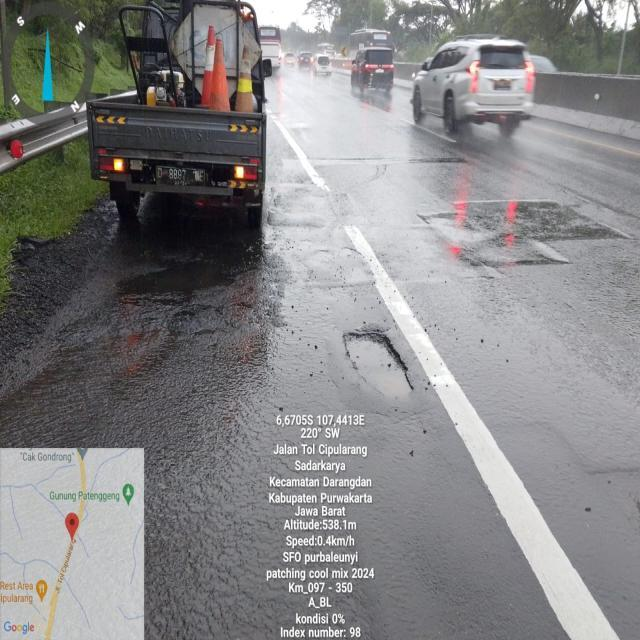Buraco: (341, 331, 417, 404), (113, 254, 239, 298)
